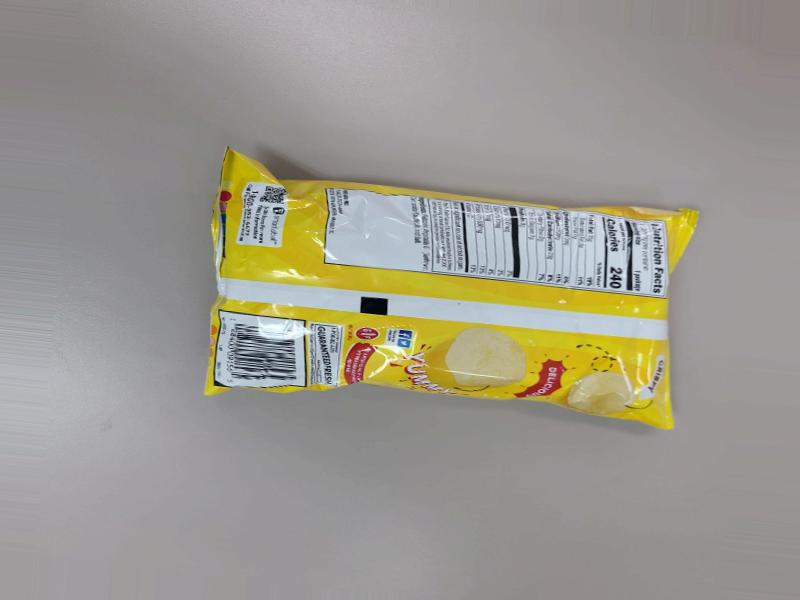lays: (195, 153, 673, 426)
